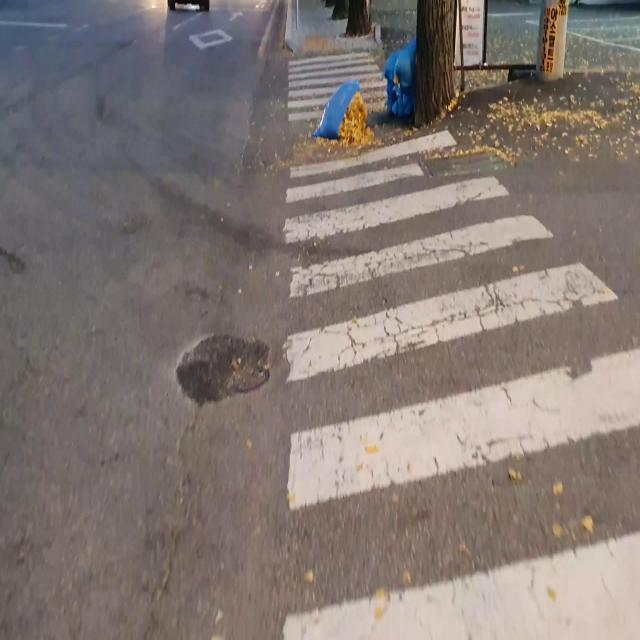crosswalk: (282, 125, 640, 637), (285, 48, 397, 127)
